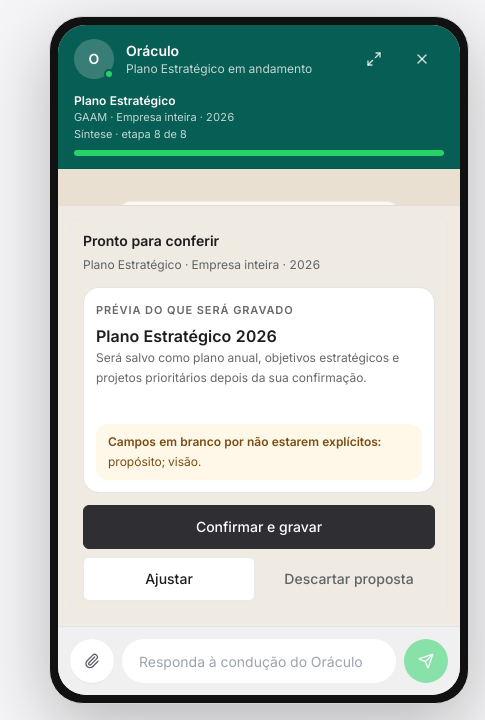
Test: OraclePanel recovery › mantém acesso a Documentos quando o backend anterior não devolve o documento
Click the button "Confirmar e gravar" at (259, 527), box [83, 505, 435, 549]
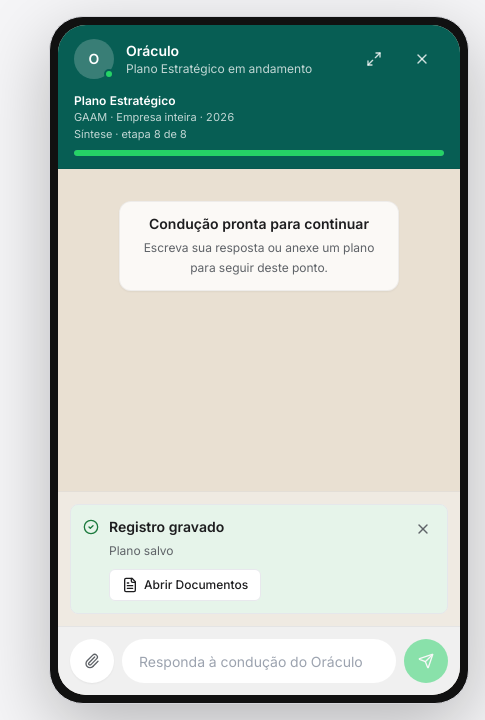
Check: the button "Abrir Documentos" is shown, box [109, 569, 261, 601]
